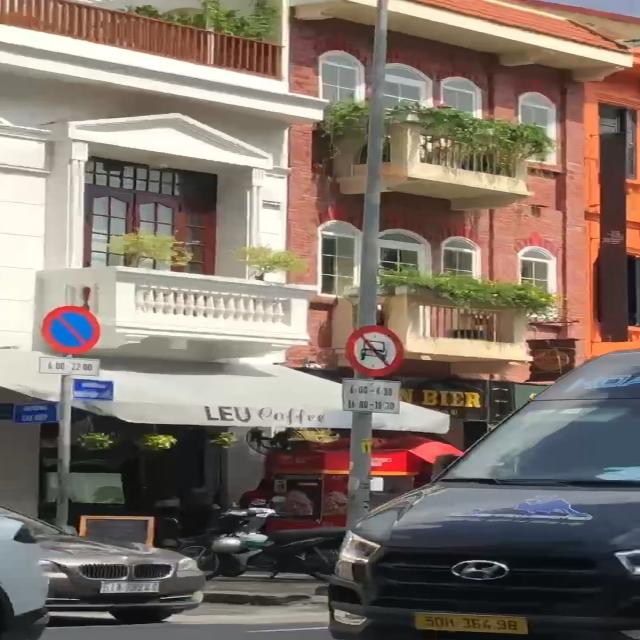Bien bao cam xe oto: (334, 321, 415, 377), (40, 304, 110, 355)
